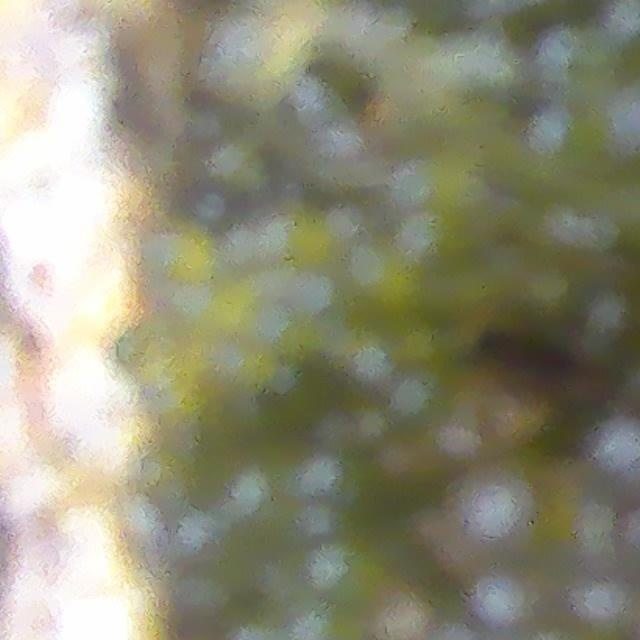SeaGrape: (581, 412, 640, 505)
